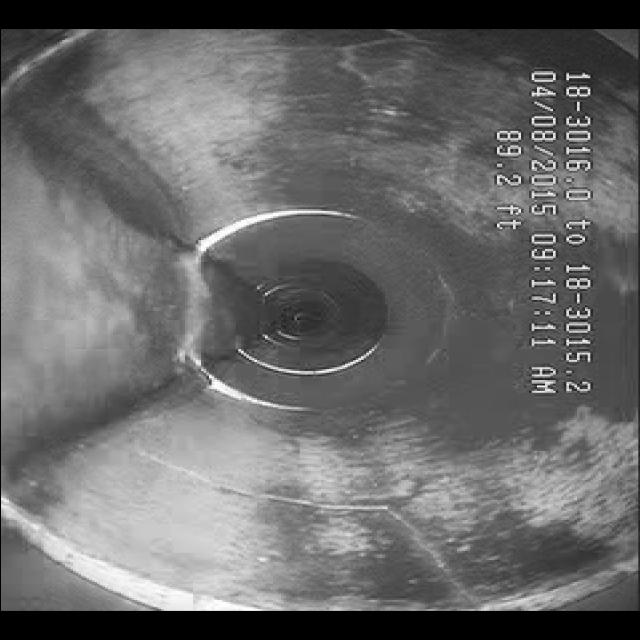Crack: (113, 454, 424, 532)
